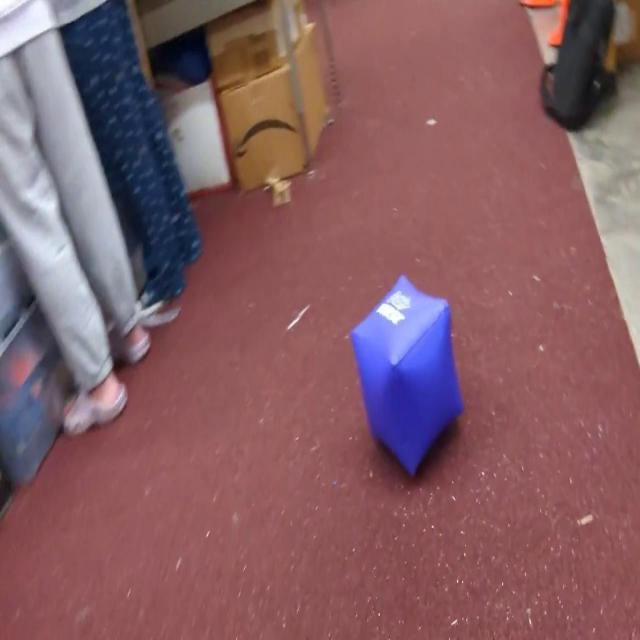frc_cube: (348, 276, 464, 476)
